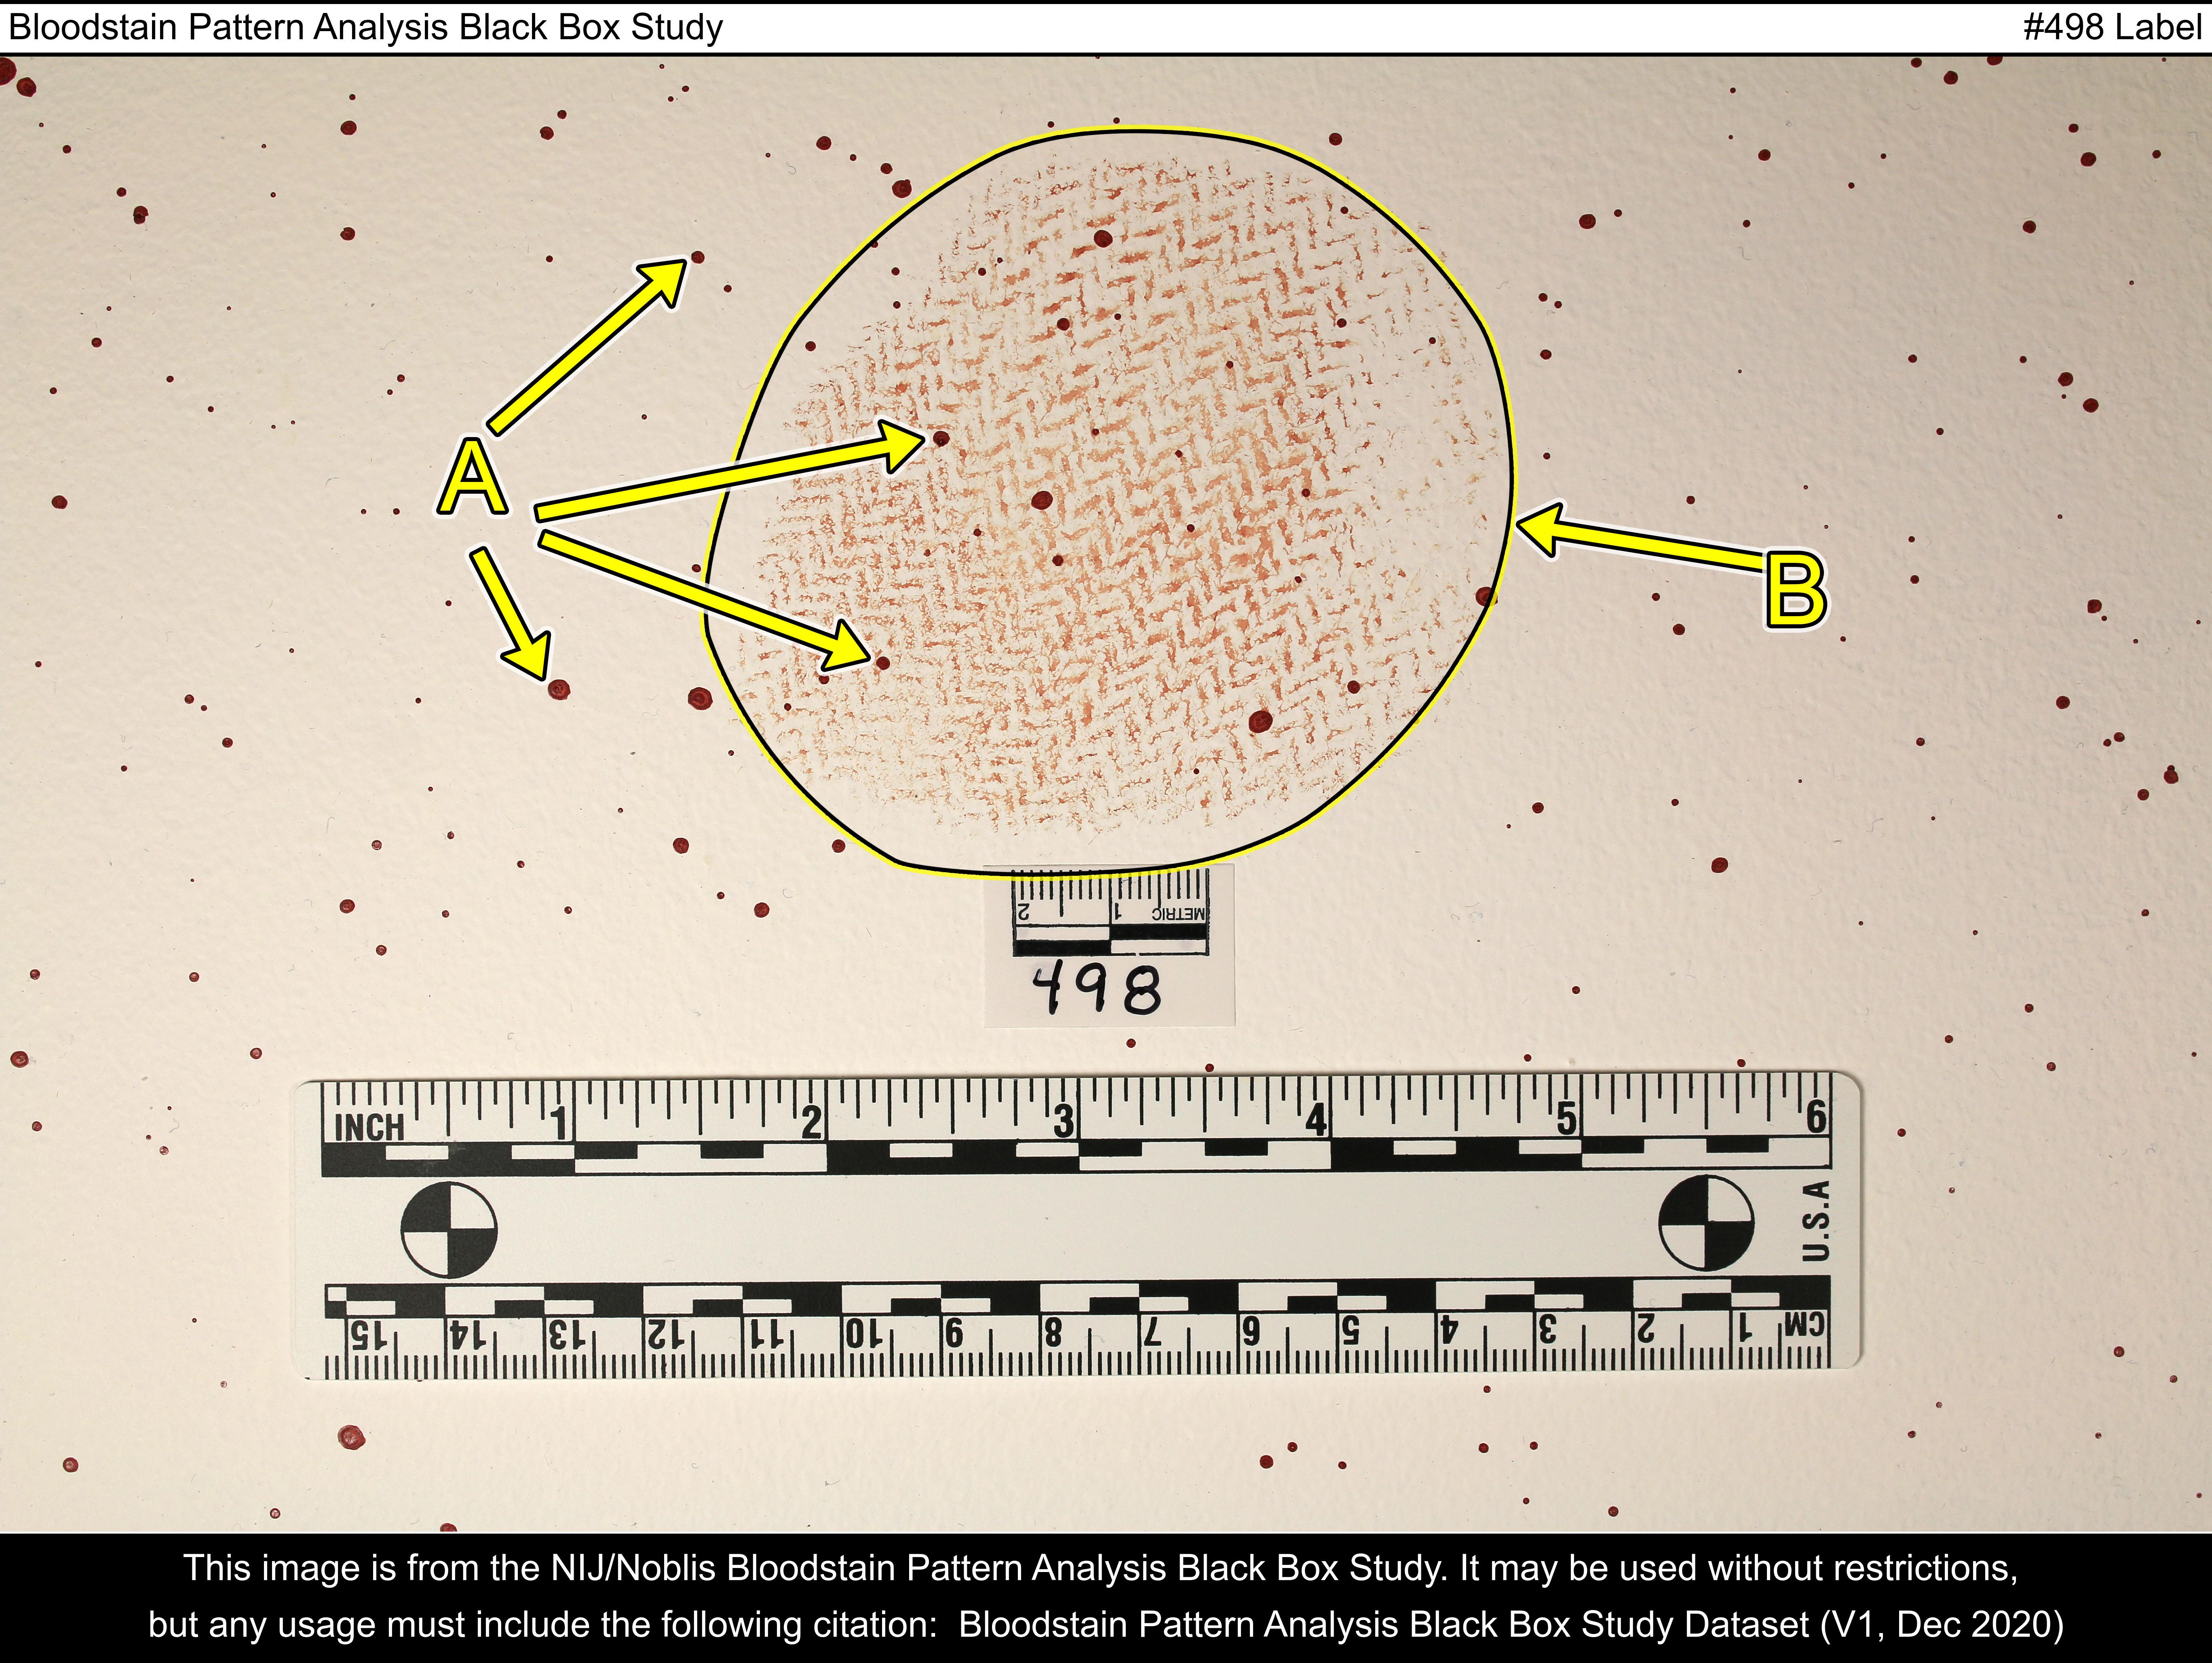Impact: (541, 673, 726, 720)
Transfer: (931, 292, 1446, 676)
